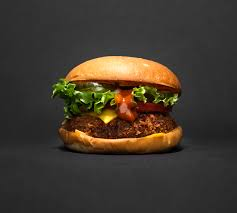hamburger: (55, 53, 184, 154)
